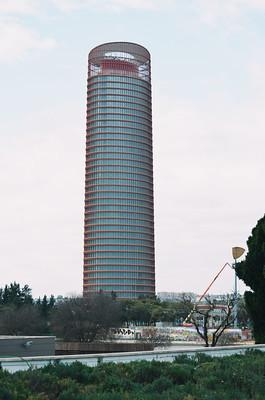building: (82, 40, 161, 332)
